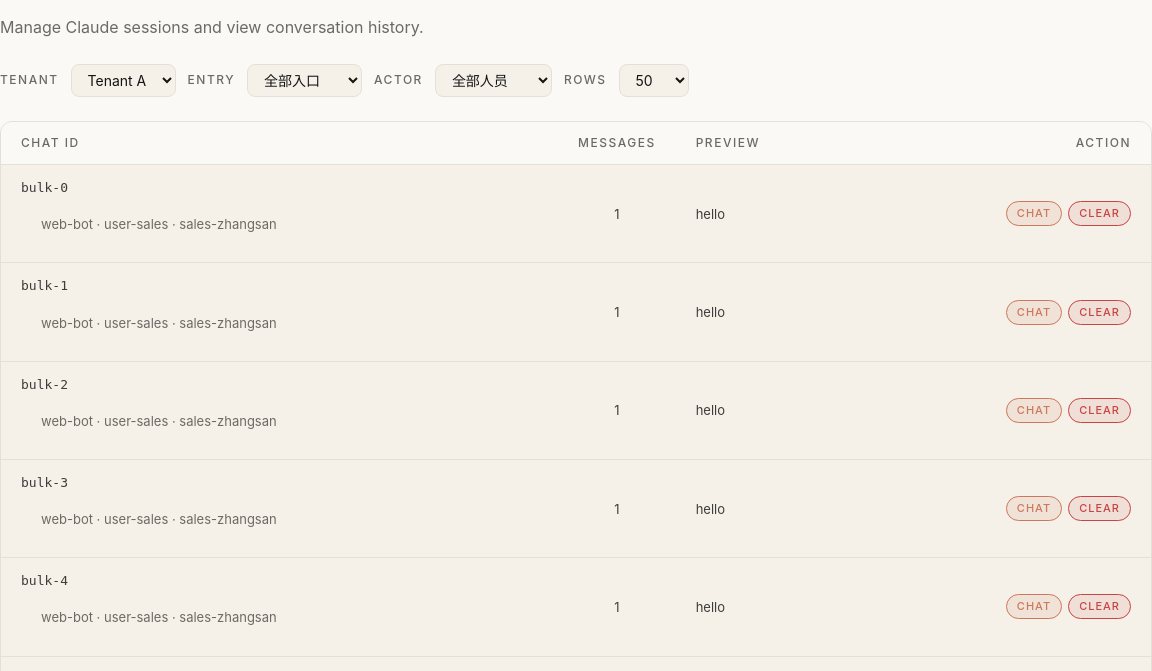
Scenario: Sessions page › uses selectable page sizes and offsets the next page
Expected: the text "bulk-0" is shown, [21,180,68,195]
Select "10" in the 4th dropdown: (654, 80) [618,64,688,97]
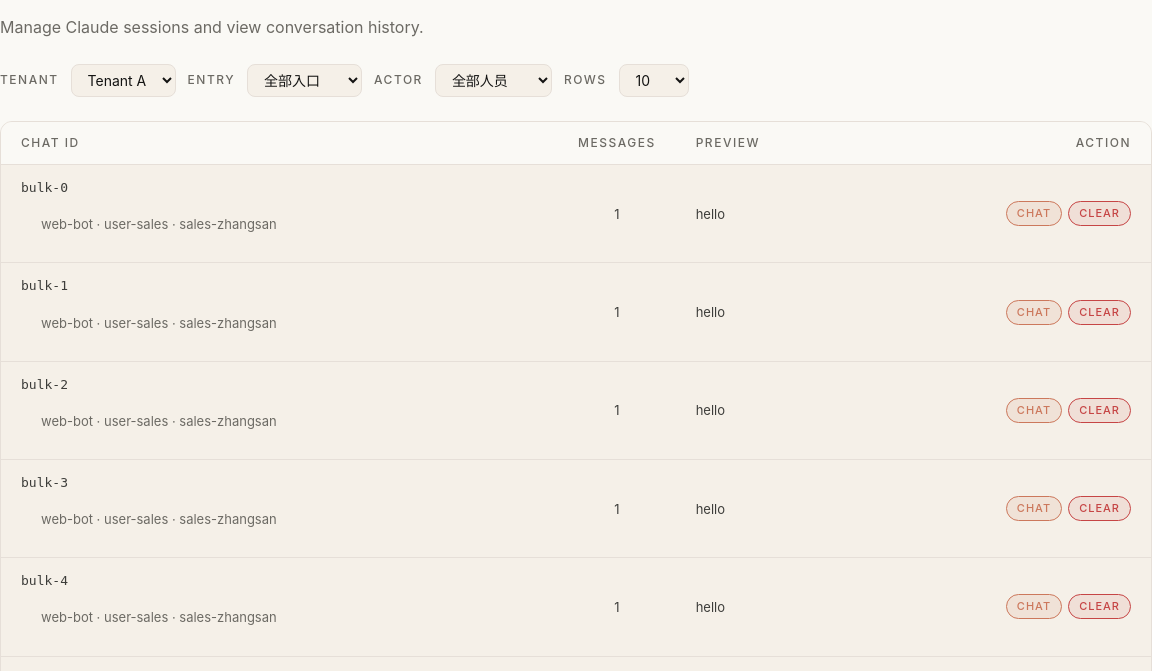
Select "50" in the 4th dropdown: (654, 80) [618,64,688,97]
(page scrolled)
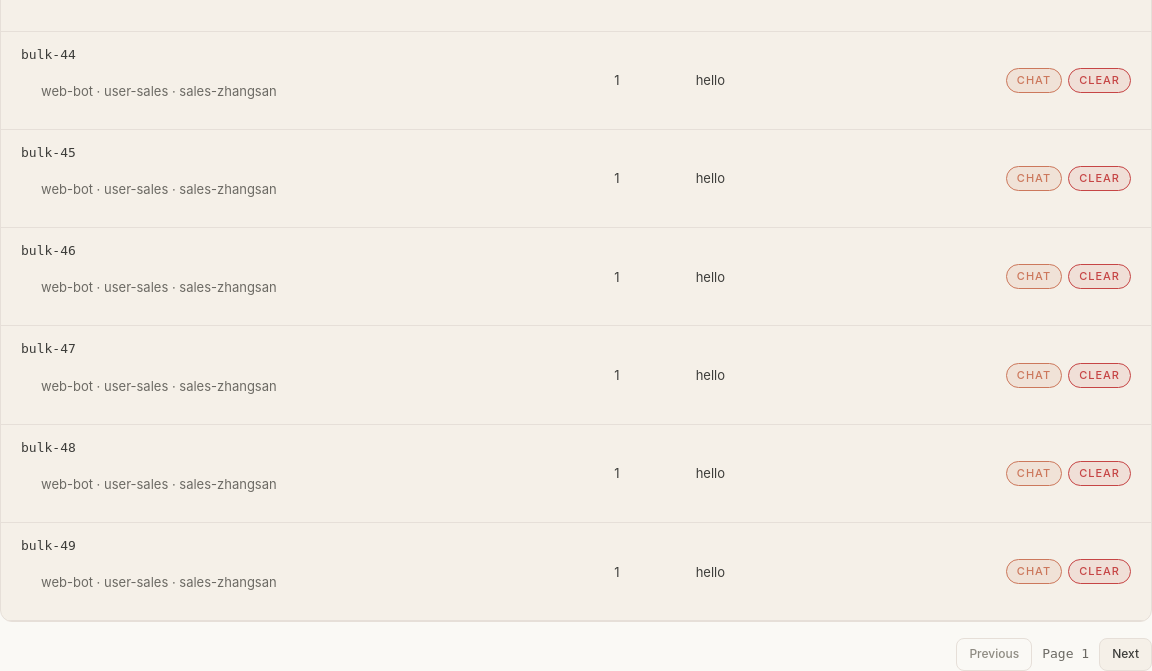
Click the button "Next": (1126, 655) [1099,638,1151,670]
(page scrolled)
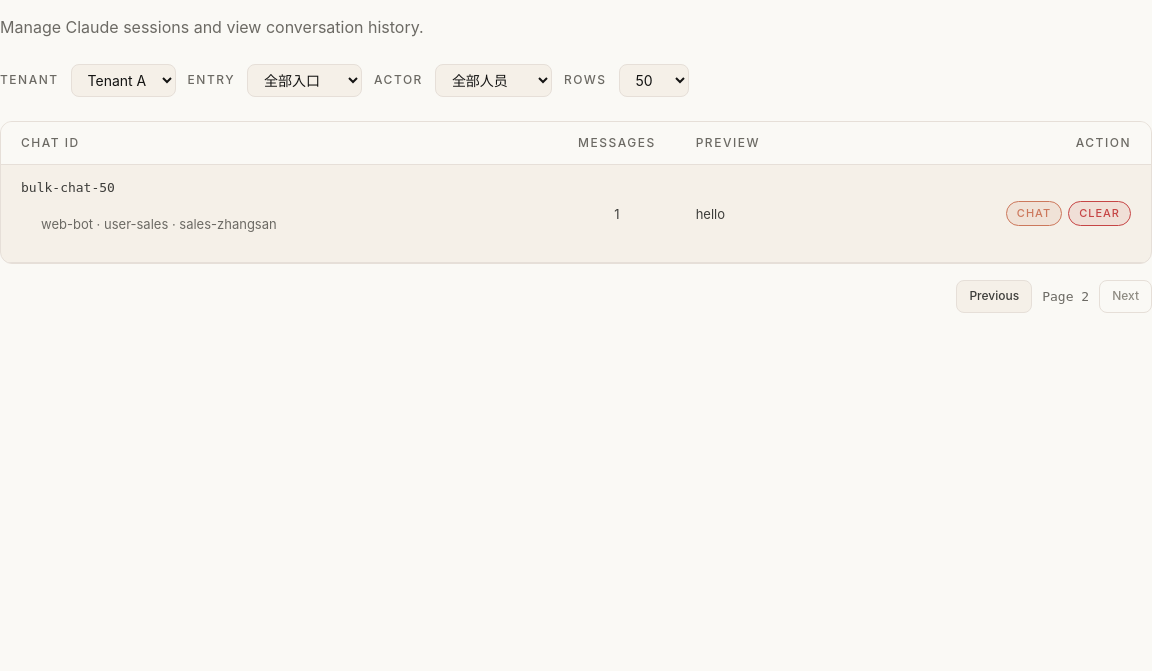
Now the text "bulk-chat-50" is shown, box [21,180,115,195]
